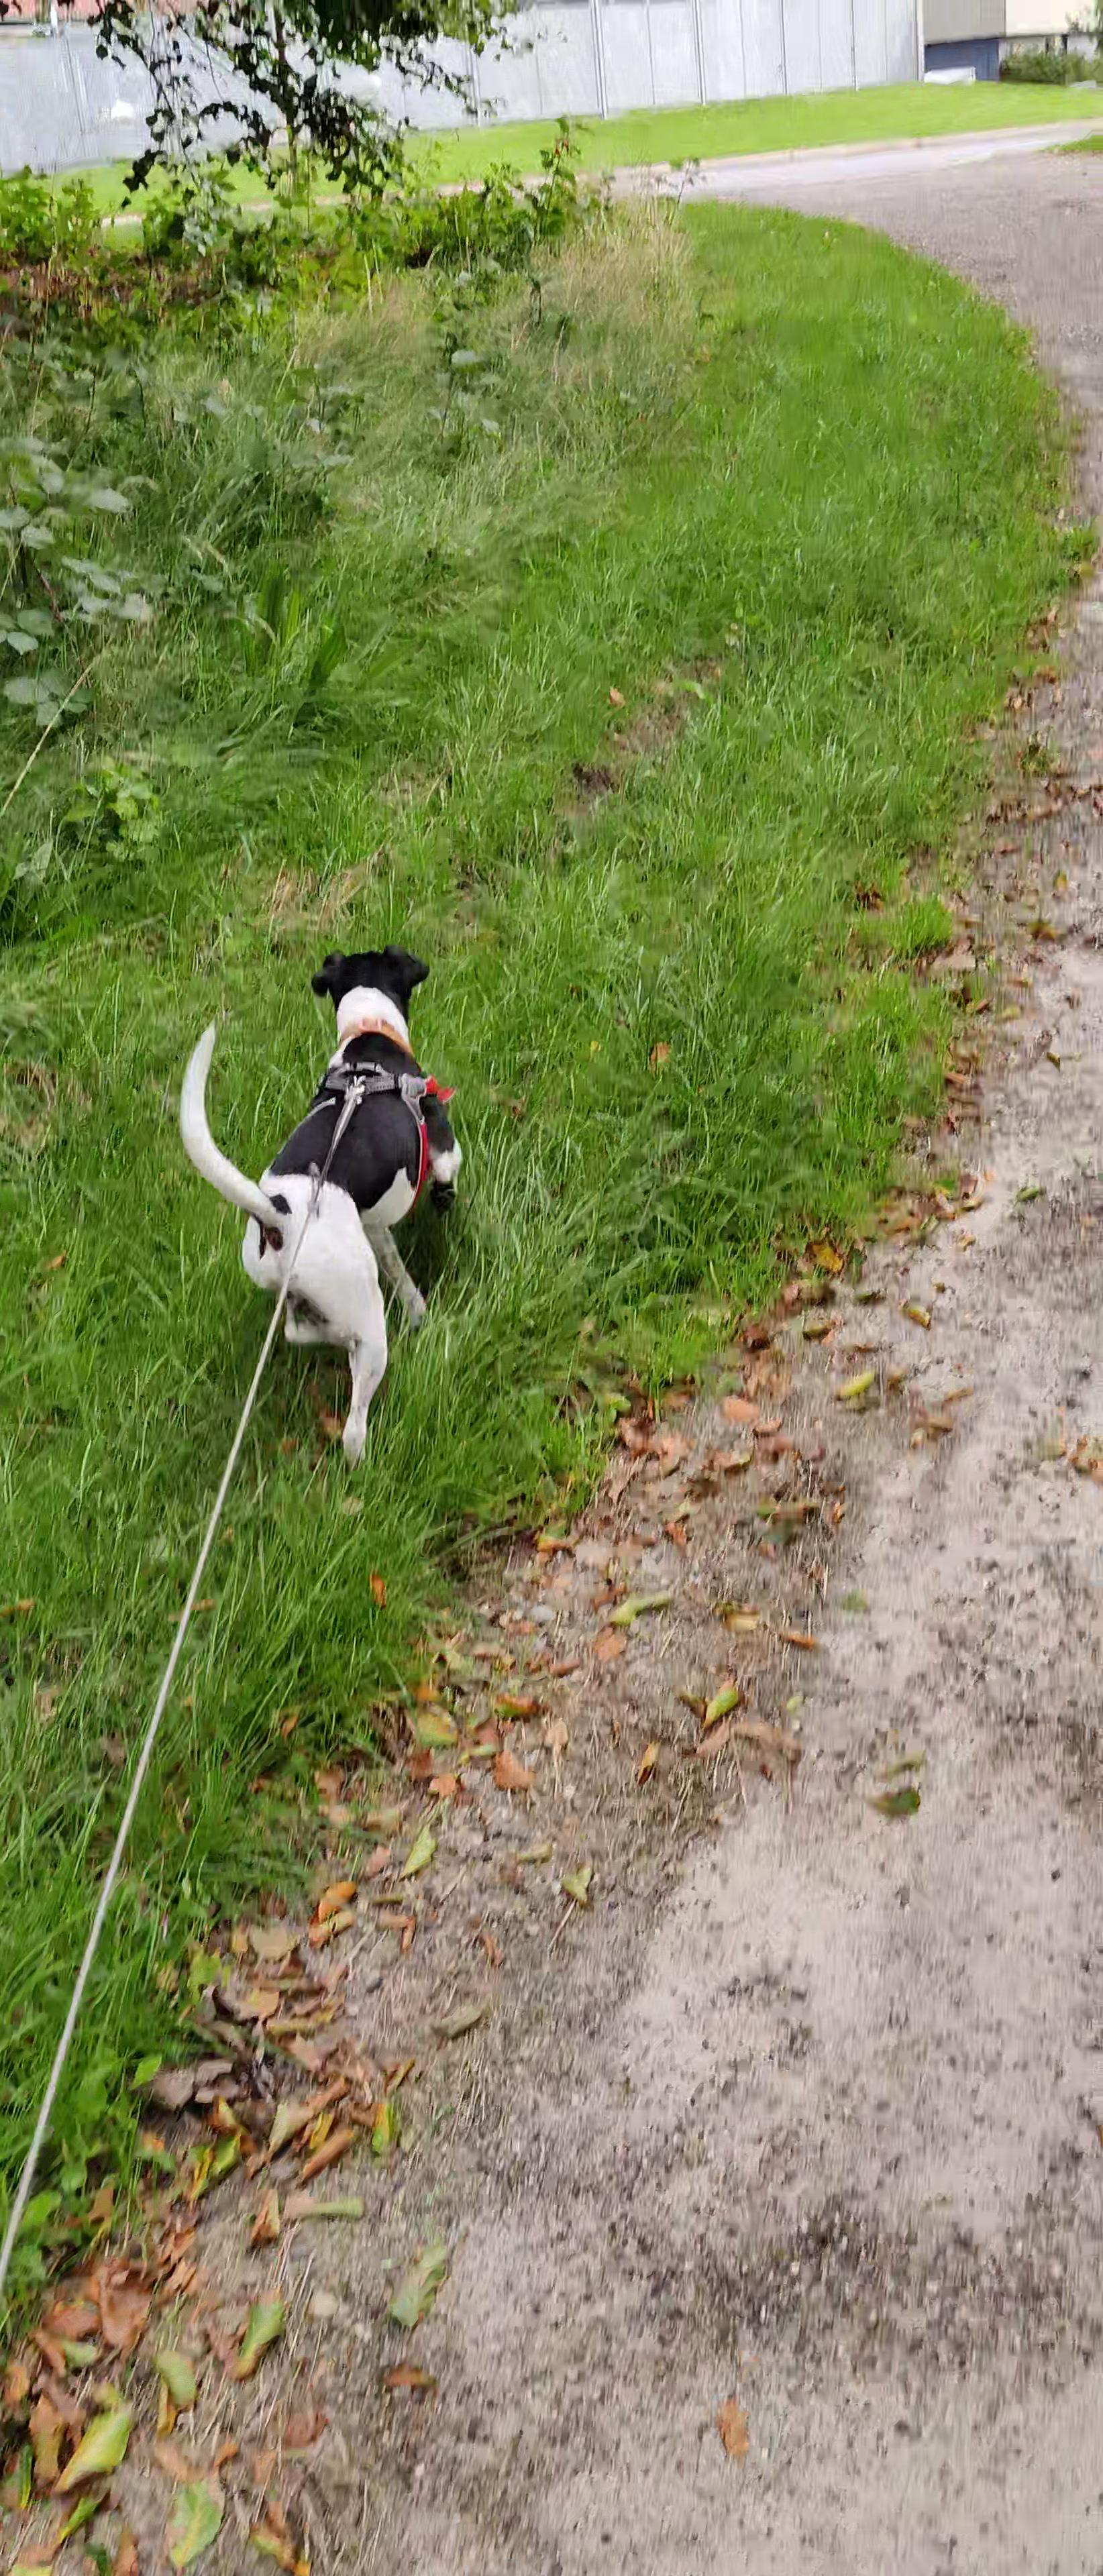Dog: (164, 908, 472, 1483)
